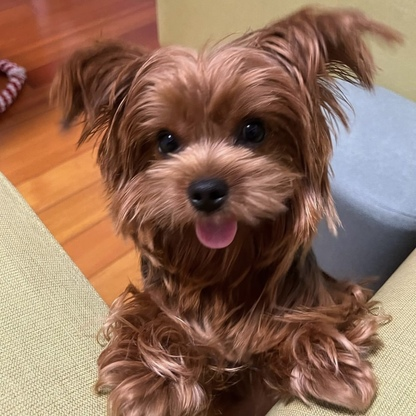yorkshire: (48, 5, 389, 416)
